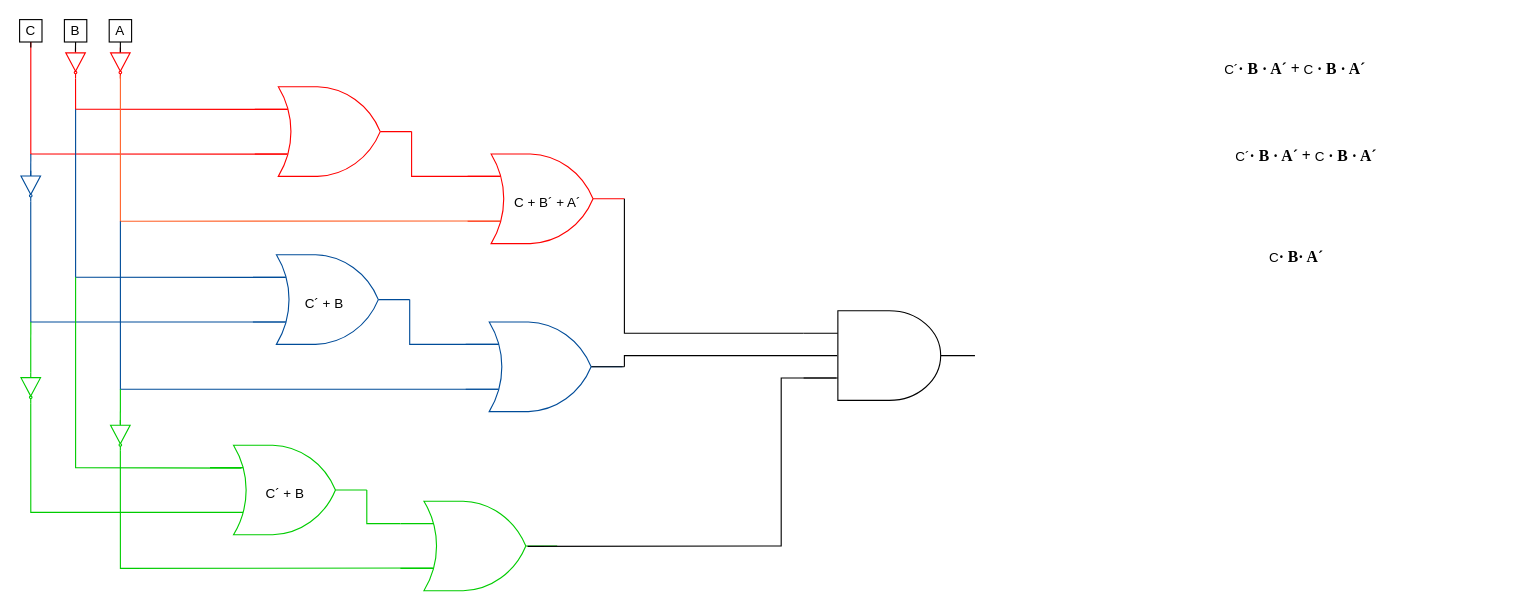
This 1529x610 diagram has some shape labels left out. The shapes that lost their labels are listed below. From the top down, each one's centre as x and y in pixels, then its label:
At point 333,131: "C + B´".
At point 543,366: "C´ + B + A".
At point 478,545: "C´ + B + A´".
